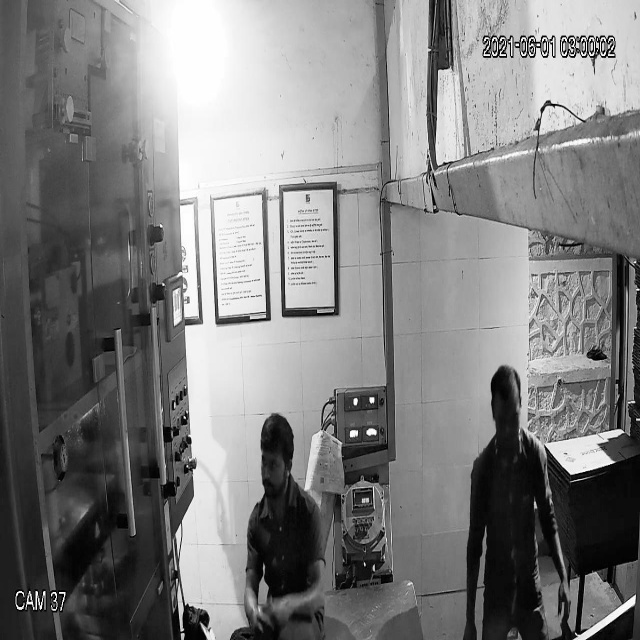Sin_gafas: (257, 453, 295, 481)
